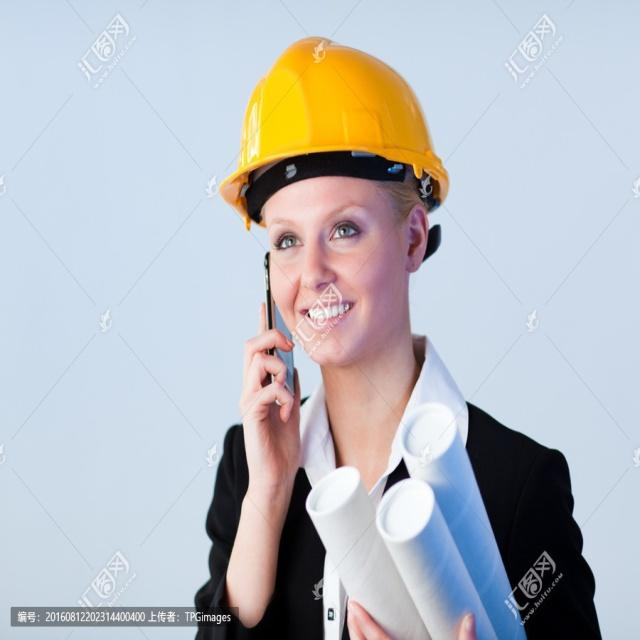helmet: (217, 49, 452, 490)
